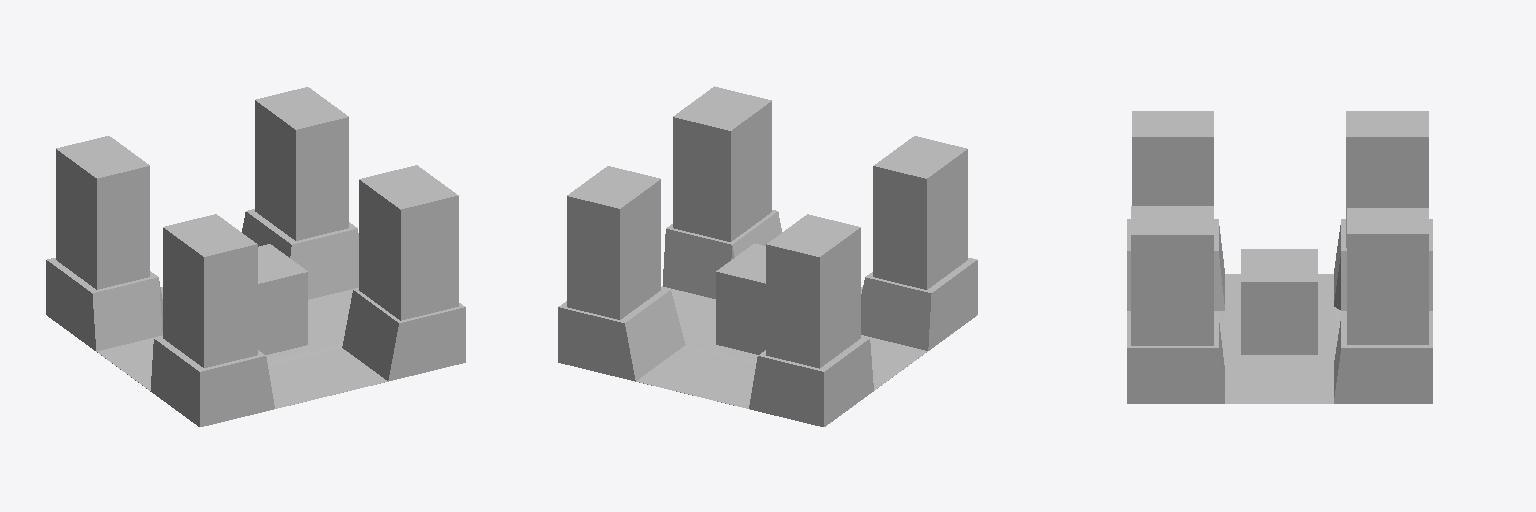
Rendered from market.obj.
The picture shows the model from 3 angles: view 1: azimuth 30°, elevation 25°; view 2: azimuth 150°, elevation 25°; view 3: azimuth 270°, elevation 25°; orthographic projection.
Parts seen in each view (by area): view 1: Cube_Cube.005; view 2: Cube_Cube.005; view 3: Cube_Cube.005.
Part boxes in pixels (bbox=[...]): Cube_Cube.005: bbox=[46, 87, 465, 426]; Cube_Cube.005: bbox=[558, 86, 977, 426]; Cube_Cube.005: bbox=[1127, 111, 1432, 403].
Bounding box in the file's own units: 1 × 0.6025 × 1.